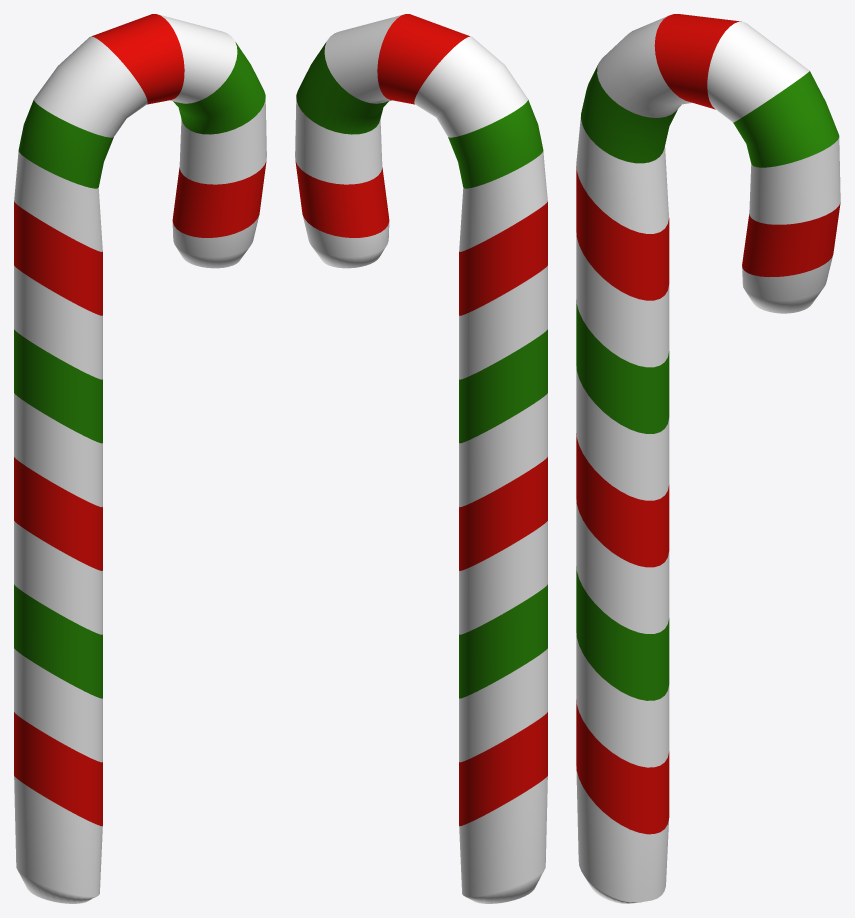
Rendered from candy_cane.fbx.
The picture shows the model from 3 angles, left to right: view 1: azimuth 30°, elevation 25°; view 2: azimuth 150°, elevation 25°; view 3: azimuth 330°, elevation 25°; orthographic projection. The views are drawn at different scales.
Parts seen in each view (by area): view 1: candy_cane; view 2: candy_cane; view 3: candy_cane.
Boxes of the visible parts, x1,y1,x2,y2 form: candy_cane: (14, 14, 266, 903); candy_cane: (295, 14, 547, 903); candy_cane: (576, 14, 840, 903).
Bounding box in the file's own units: 6.24 × 21.23 × 2.05.
